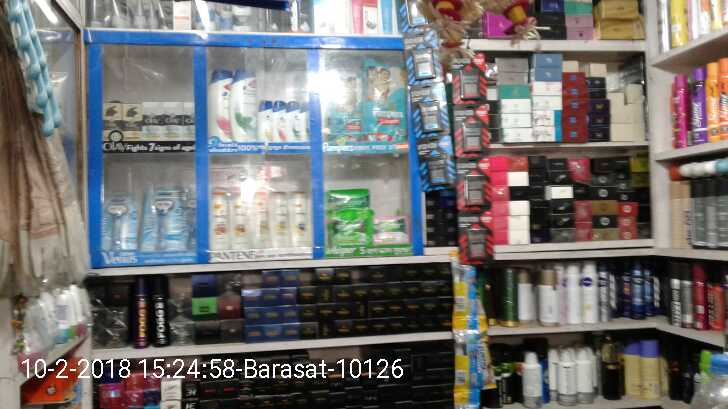gillete: (453, 264, 480, 332), (453, 332, 481, 395)
venus: (4, 1, 59, 136), (142, 187, 189, 250), (105, 191, 135, 248)
